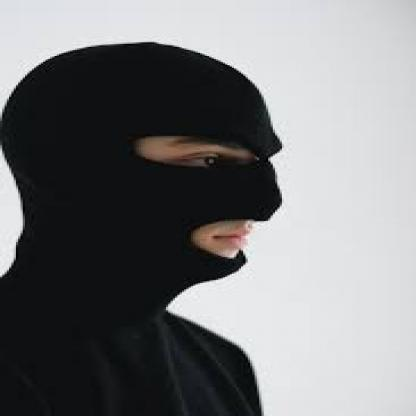criminal: (0, 42, 283, 416)
